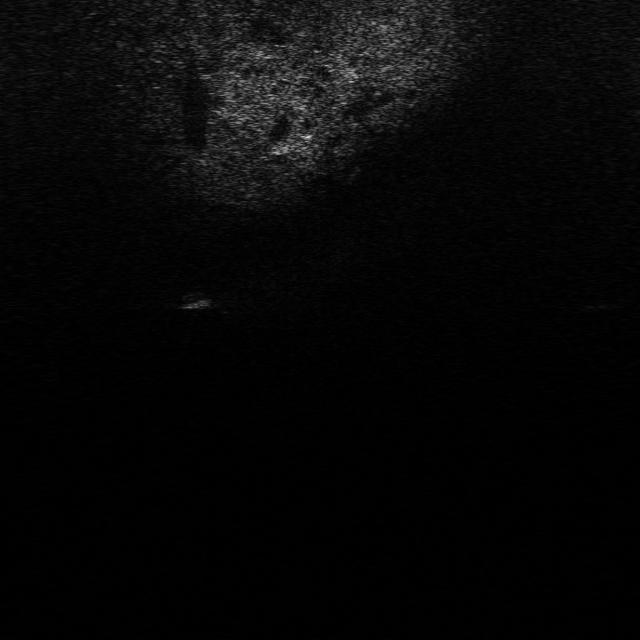cube: (177, 288, 213, 311)
